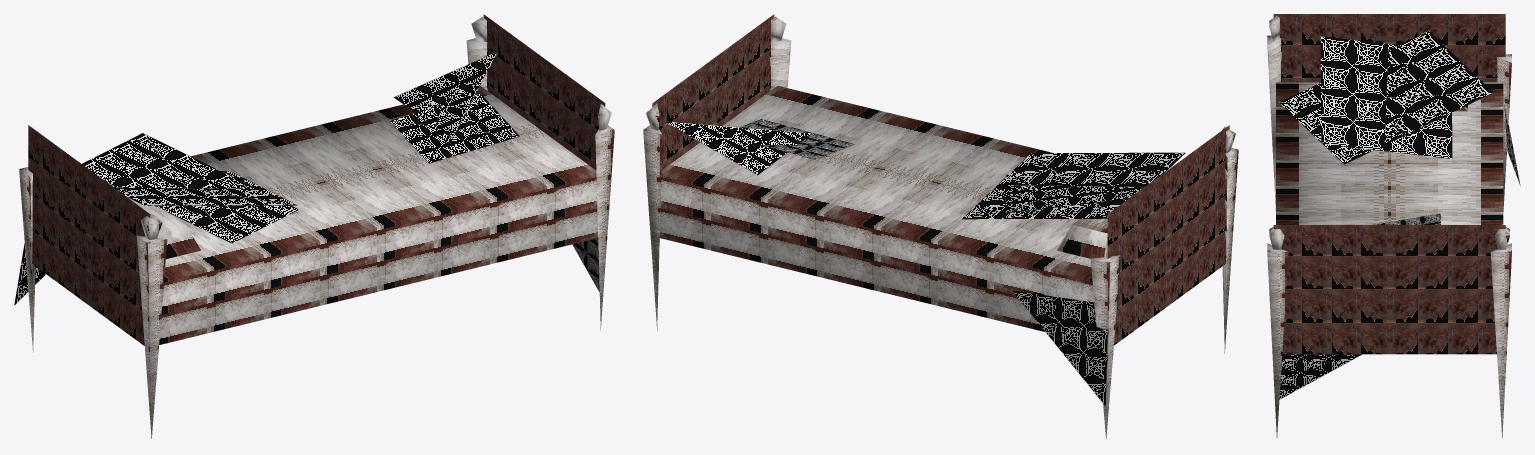
File: 3169IMFY05_01.gltf
3 renders of one model, left to right at view 1: azimuth 30°, elevation 25°; view 2: azimuth 150°, elevation 25°; view 3: azimuth 270°, elevation 25°, orthographic. The views are drawn at different scales.
Visible parts, largest first — view 1: 3169IMFY05_01; view 2: 3169IMFY05_01; view 3: 3169IMFY05_01.
Part boxes in pixels (x1,y1,x2,y2): 3169IMFY05_01: (14,14,614,438); 3169IMFY05_01: (643,14,1238,439); 3169IMFY05_01: (1267,14,1520,437).
Size of the model in its own units: 1.94 by 0.9087 by 0.9607.
3 materials, 3 textured.
